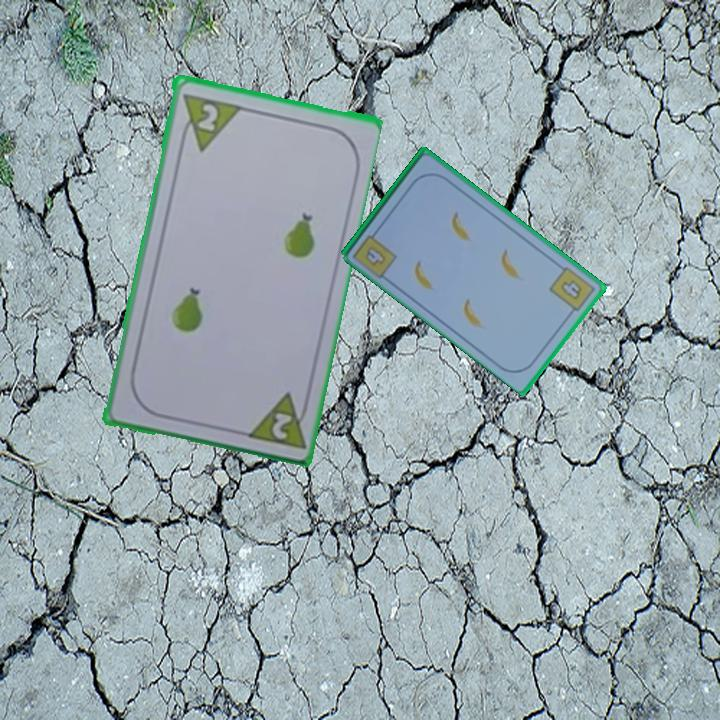2p: (241, 386, 313, 452), (193, 99, 221, 134)
4b: (546, 263, 598, 318), (362, 242, 389, 269)
